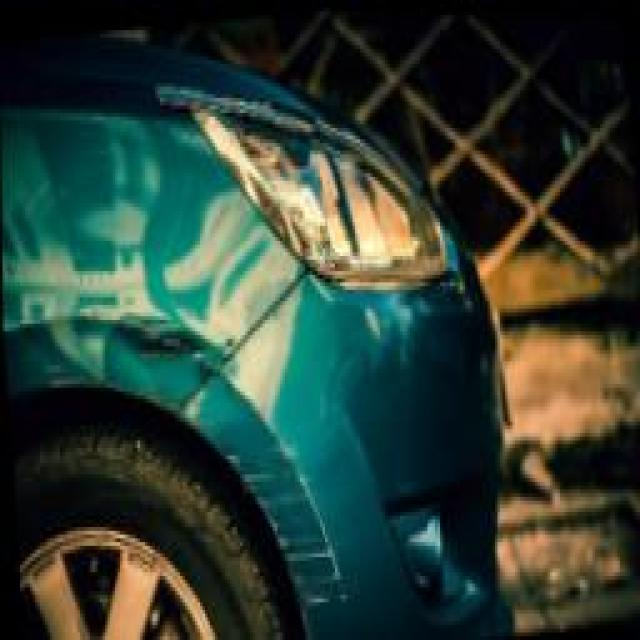Bumper: (190, 350, 372, 640)
Fender: (2, 233, 209, 404)
